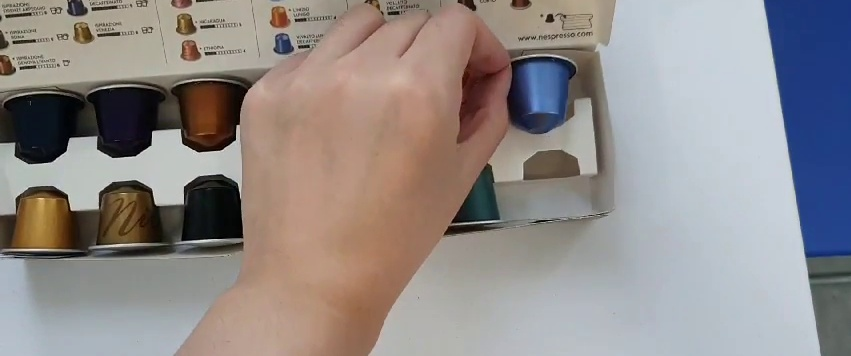capsule_7: (496, 52, 579, 133)
